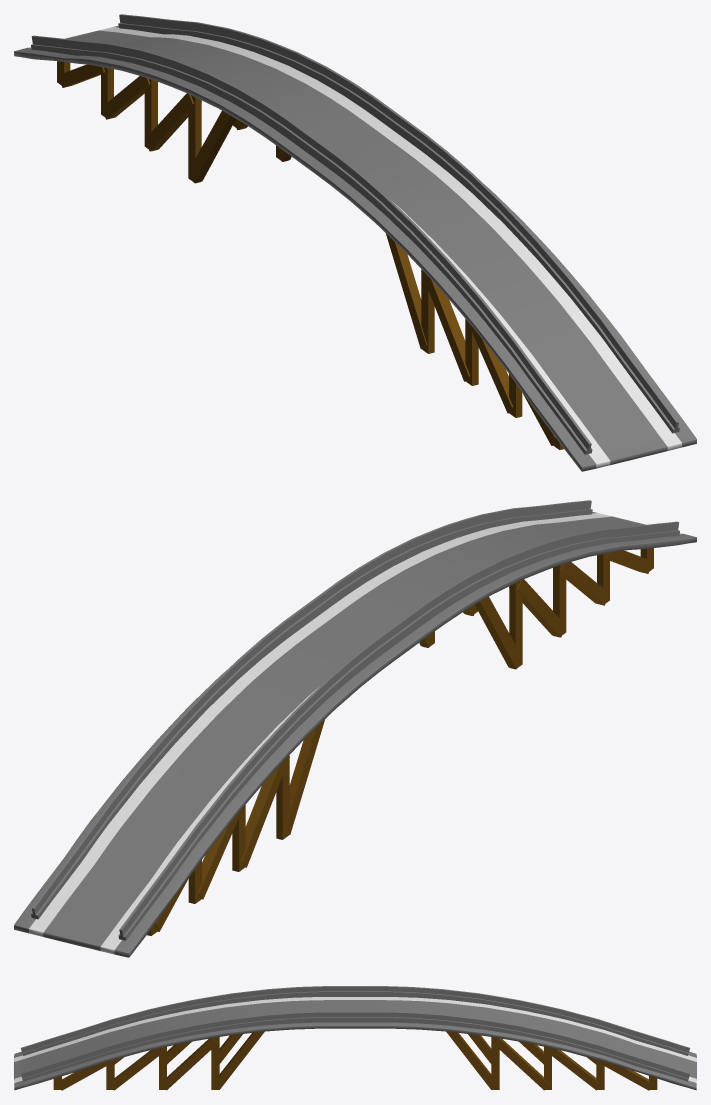
The model's file is bridge.fbx.
3 renders of one model, top to bottom at view 1: azimuth 30°, elevation 25°; view 2: azimuth 150°, elevation 25°; view 3: azimuth 270°, elevation 25°, orthographic. The views are drawn at different scales.
Visible parts, largest first — view 1: bridge; view 2: bridge; view 3: bridge.
Boxes of the visible parts, x1,y1,x2,y2 form: bridge: (14,14,696,471); bridge: (14,500,696,957); bridge: (14,986,696,1090).
Size of the model in its own units: 957 by 1016 by 8133.
